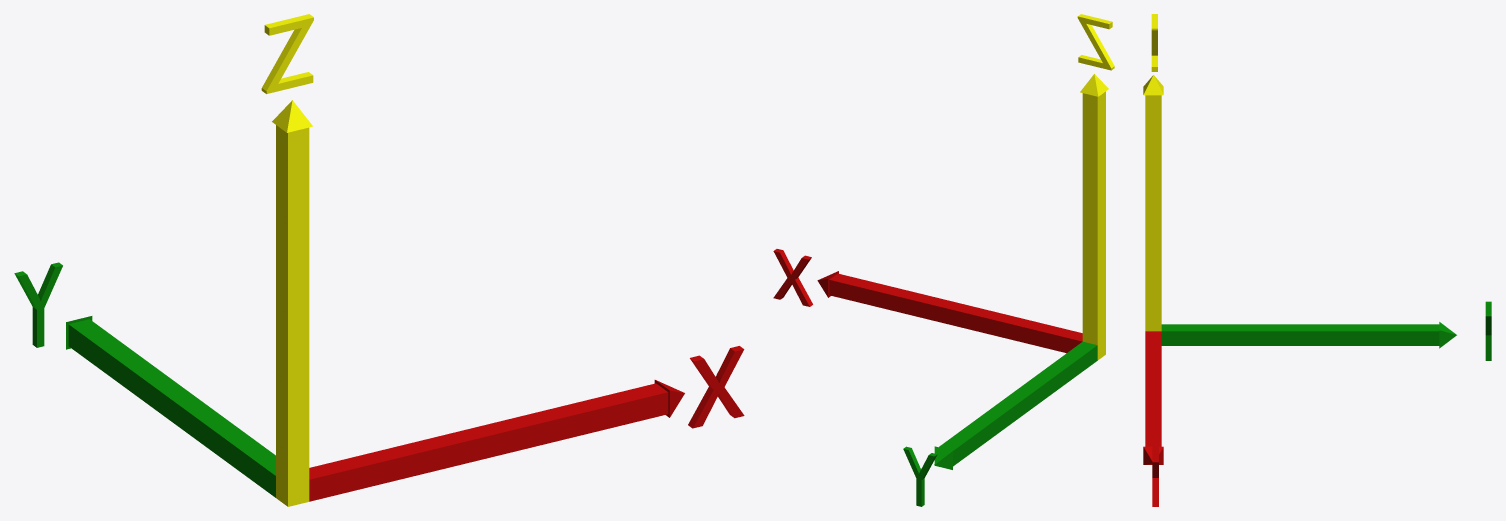
Rendered from coord.gltf.
3 views of the same model, side by side, from view 1: azimuth 30°, elevation 25°; view 2: azimuth 150°, elevation 25°; view 3: azimuth 270°, elevation 25° (orthographic). The views are drawn at different scales.
Visible parts, largest first — view 1: Box003, Box001, Box002, Text003, Text001, Text002; view 2: Box003, Box001, Box002, Text003, Text001, Text002; view 3: Box002, Box003, Box001, Text001, Text002, Text003.
Boxes of the visible parts, box(x1,y1,x2,y2) form: Box003: box(272, 100, 312, 506); Box001: box(309, 380, 684, 501); Box002: box(66, 316, 275, 497); Text003: box(261, 14, 313, 93); Text001: box(688, 346, 744, 428); Text002: box(14, 262, 62, 347); Box003: box(1080, 74, 1108, 360); Box001: box(817, 271, 1082, 353); Box002: box(934, 341, 1097, 469); Text003: box(1077, 14, 1114, 70); Text001: box(773, 249, 812, 306); Text002: box(903, 446, 937, 506); Box002: box(1161, 322, 1456, 348); Box003: box(1143, 75, 1163, 331); Box001: box(1143, 331, 1163, 464); Text001: box(1152, 446, 1158, 506); Text002: box(1485, 301, 1491, 360); Text003: box(1151, 14, 1157, 71).
Size of the model in its own units: 227 by 230 by 214.
3 materials, 3 textured.
